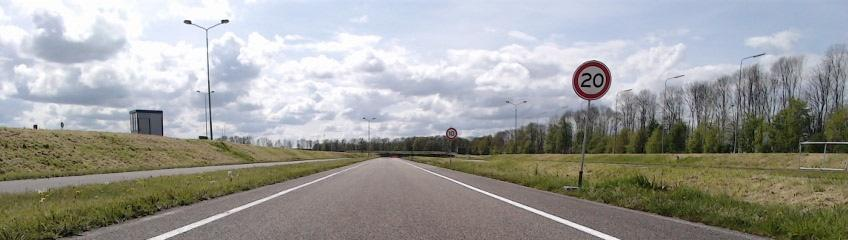Speed-limit-10km-h-: (446, 128, 457, 139)
Speed-limit-20km-h-: (572, 60, 611, 100)
